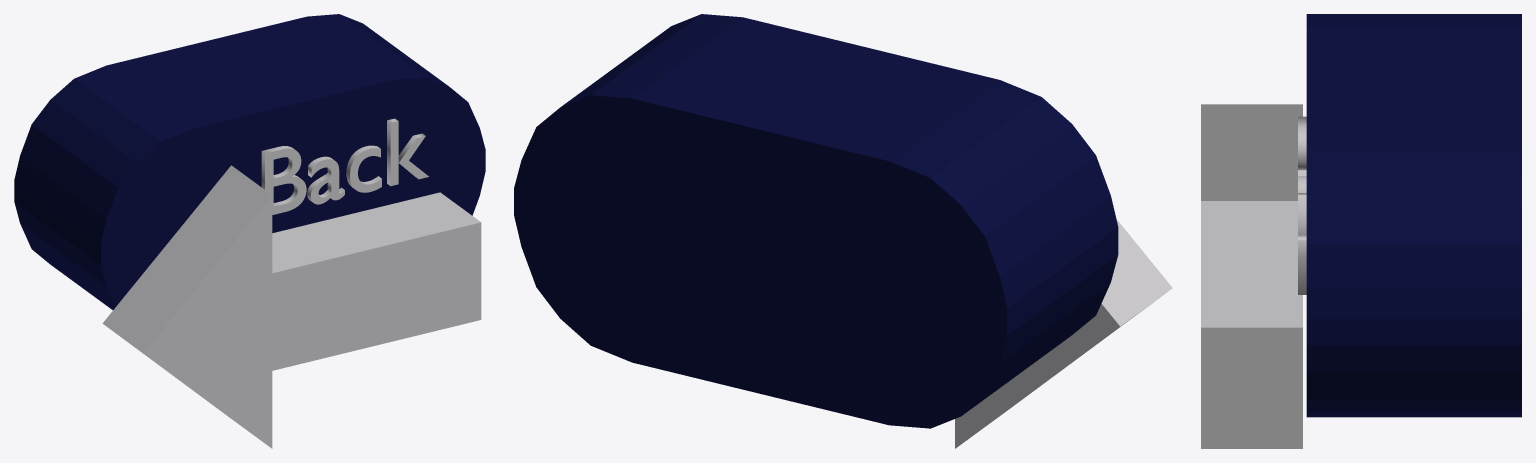
The model's file is BackL.glb.
3 views of the same model, side by side, from view 1: azimuth 30°, elevation 25°; view 2: azimuth 150°, elevation 25°; view 3: azimuth 270°, elevation 25° (orthographic). The views are drawn at different scales.
Visible parts, largest first — view 1: Plane.008, Plane.007, Text.005; view 2: Plane.008, Plane.007; view 3: Plane.008, Plane.007, Text.005.
Boxes of the visible parts, x1,y1,x2,y2 form: Plane.008: [14, 14, 485, 309]; Plane.007: [102, 165, 481, 448]; Text.005: [261, 118, 428, 214]; Plane.008: [514, 14, 1118, 428]; Plane.007: [955, 219, 1172, 448]; Plane.008: [1306, 14, 1521, 417]; Plane.007: [1201, 104, 1302, 448]; Text.005: [1298, 116, 1306, 294].
Bounding box in the file's own units: 0.2652 × 0.1962 × 0.1542.
